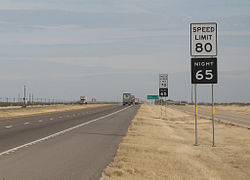speed limit: (173, 18, 235, 58)
